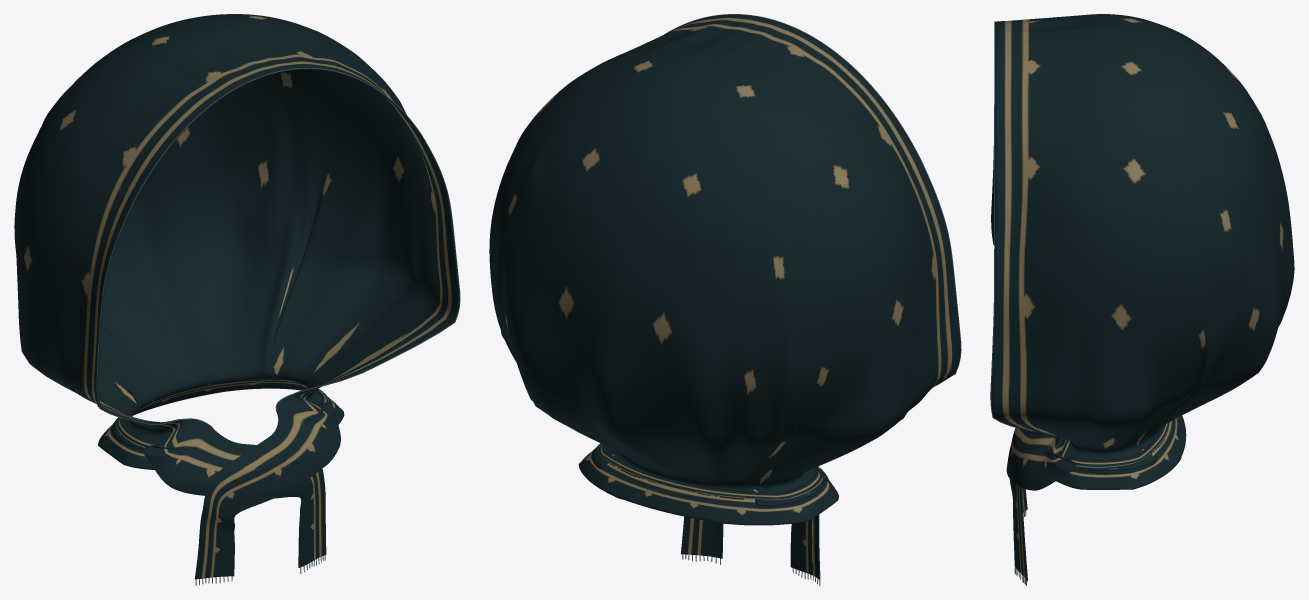
File: Masculine-tank-pashmina239-headgear.glb
3 views of the same model, side by side, from view 1: azimuth 30°, elevation 25°; view 2: azimuth 150°, elevation 25°; view 3: azimuth 270°, elevation 25° (orthographic). The views are drawn at different scales.
Parts seen in each view (by area): view 1: 226 headgear / Headwear / continuous woven pashmina239, 226 headgear / Headwear / face edge239; view 2: 226 headgear / Headwear / continuous woven pashmina239, 226 headgear / Headwear / face edge239; view 3: 226 headgear / Headwear / continuous woven pashmina239, 226 headgear / Headwear / face edge239.
Boxes of the visible parts, x1,y1,x2,y2 form: 226 headgear / Headwear / continuous woven pashmina239: (14, 14, 459, 579); 226 headgear / Headwear / face edge239: (96, 68, 460, 427); 226 headgear / Headwear / continuous woven pashmina239: (489, 14, 960, 579); 226 headgear / Headwear / face edge239: (664, 14, 961, 387); 226 headgear / Headwear / continuous woven pashmina239: (991, 14, 1294, 581); 226 headgear / Headwear / face edge239: (990, 21, 1038, 431).
Size of the model in its own units: 1.03 by 1.35 by 0.7127.
Materials: 3 (1 with a texture image).
